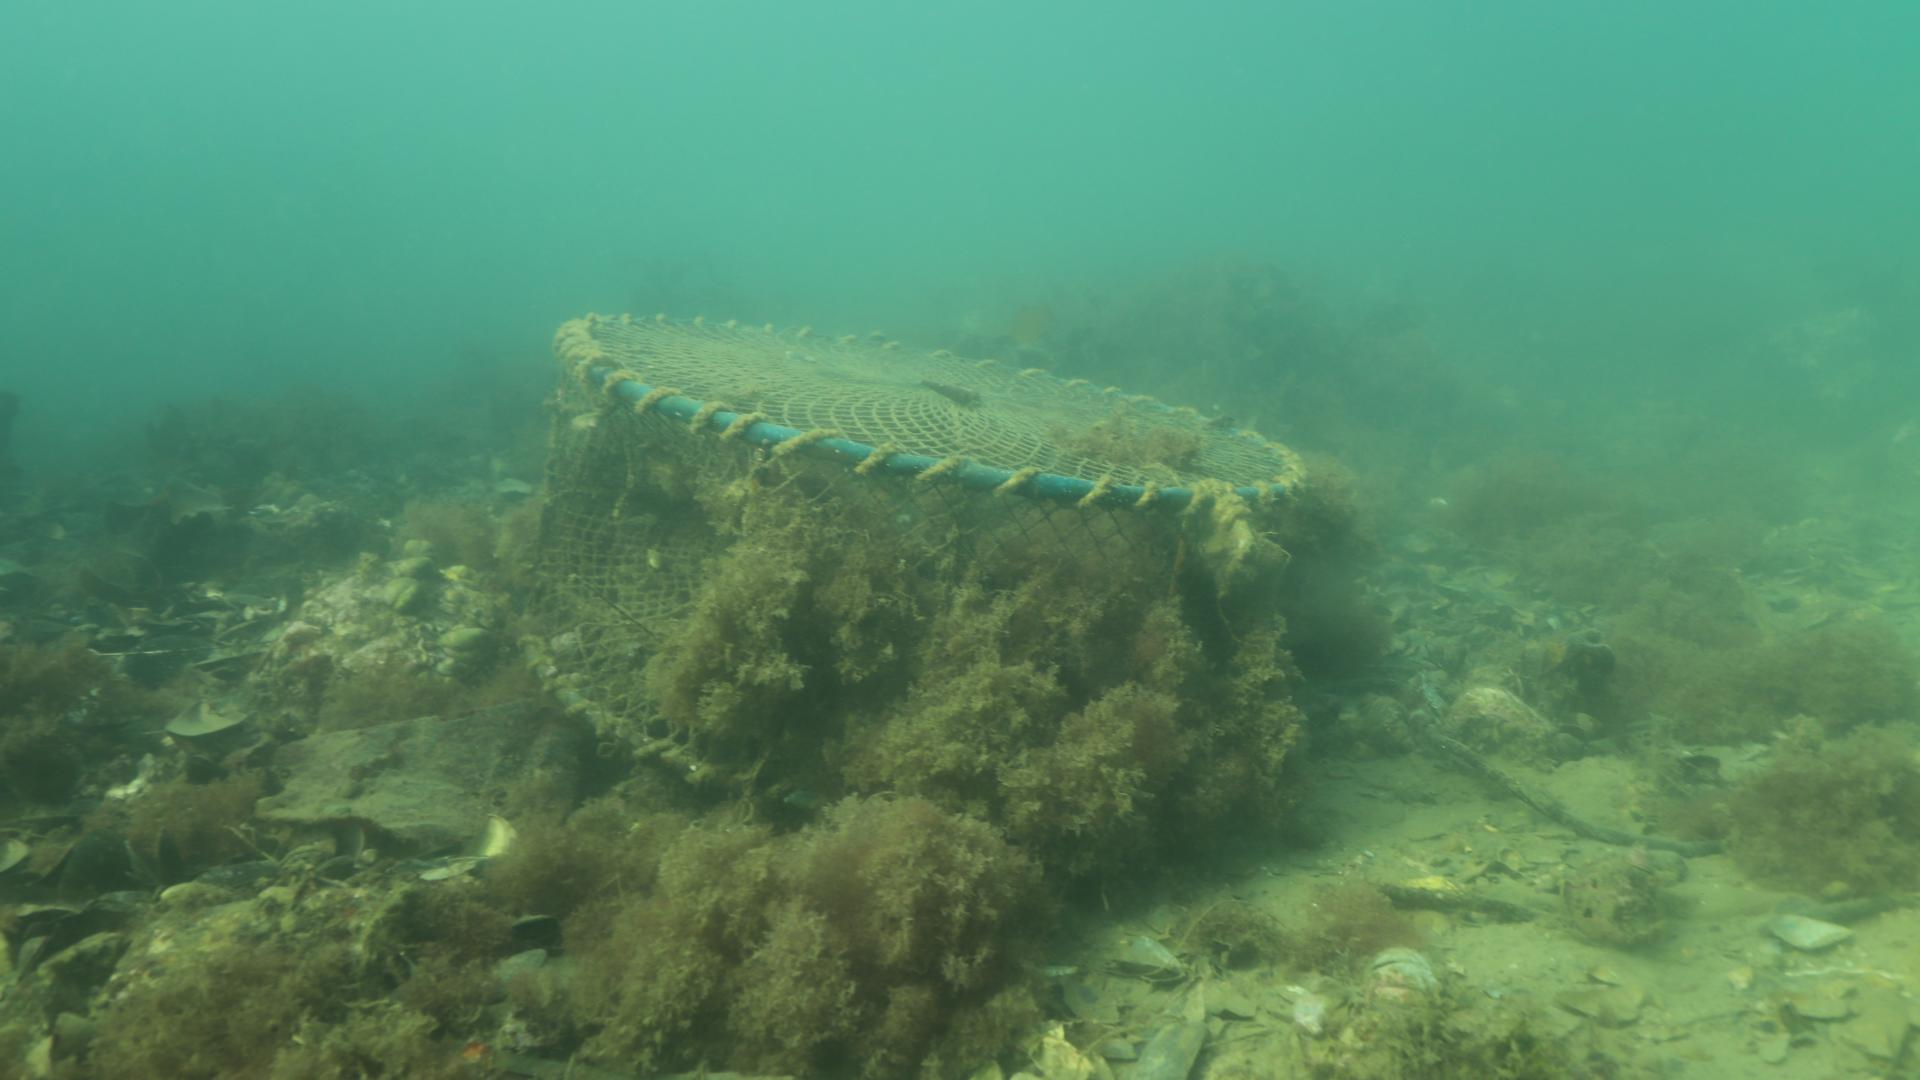circular fish trap: (491, 307, 1307, 808)
